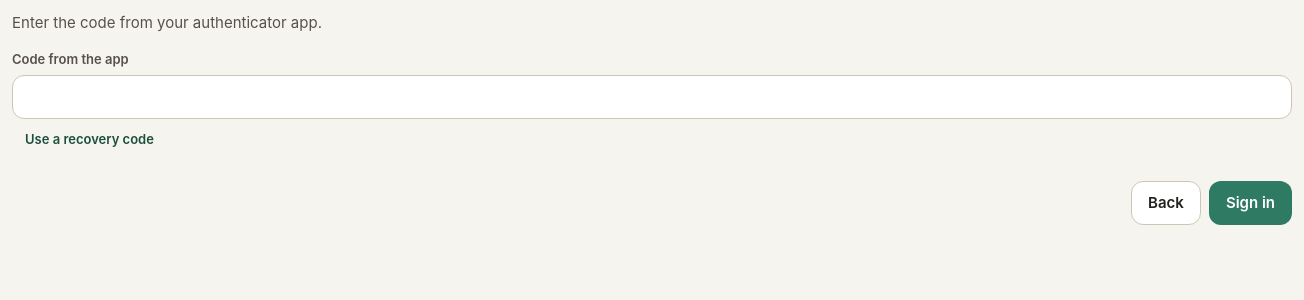
Scenario: SecondFactorForm › says a wrong code is wrong
The image size is (1304, 300).
Type "000000" into the field labelled "Code from the app".
click(652, 97); type("000000")  # box left=12, top=75, right=1292, bottom=119
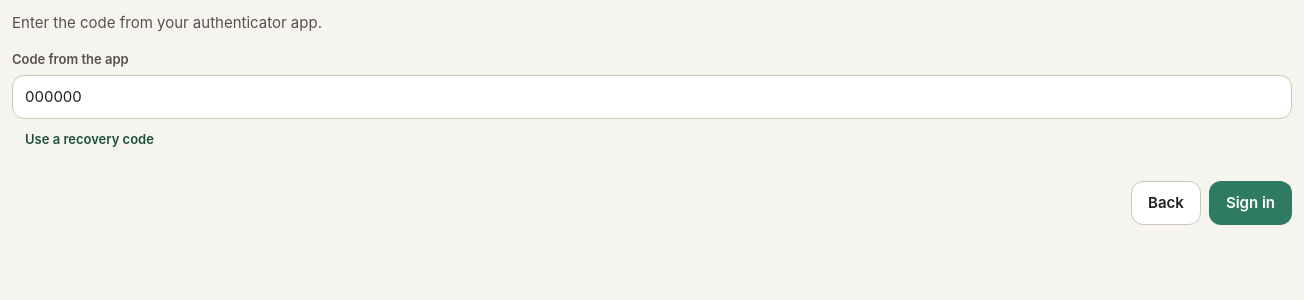
Click the button "Sign in".
click(1250, 203)  # box left=1209, top=181, right=1292, bottom=225
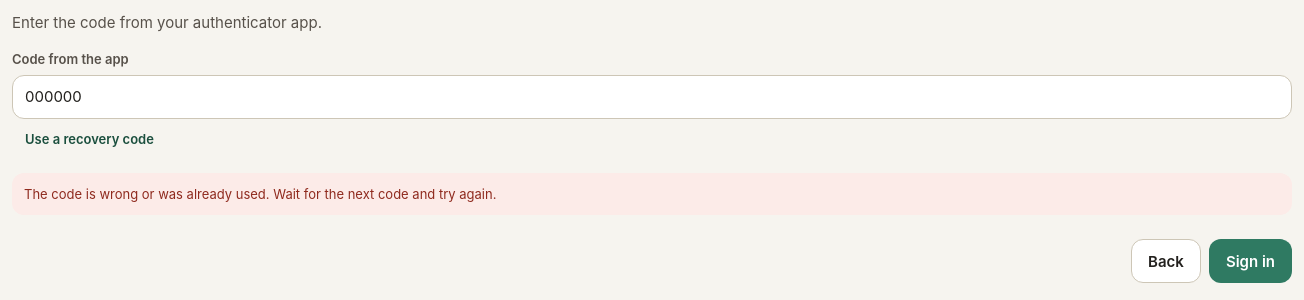
Result: the message shows "The code is wrong or was already used." at left=24, top=186, right=496, bottom=202
